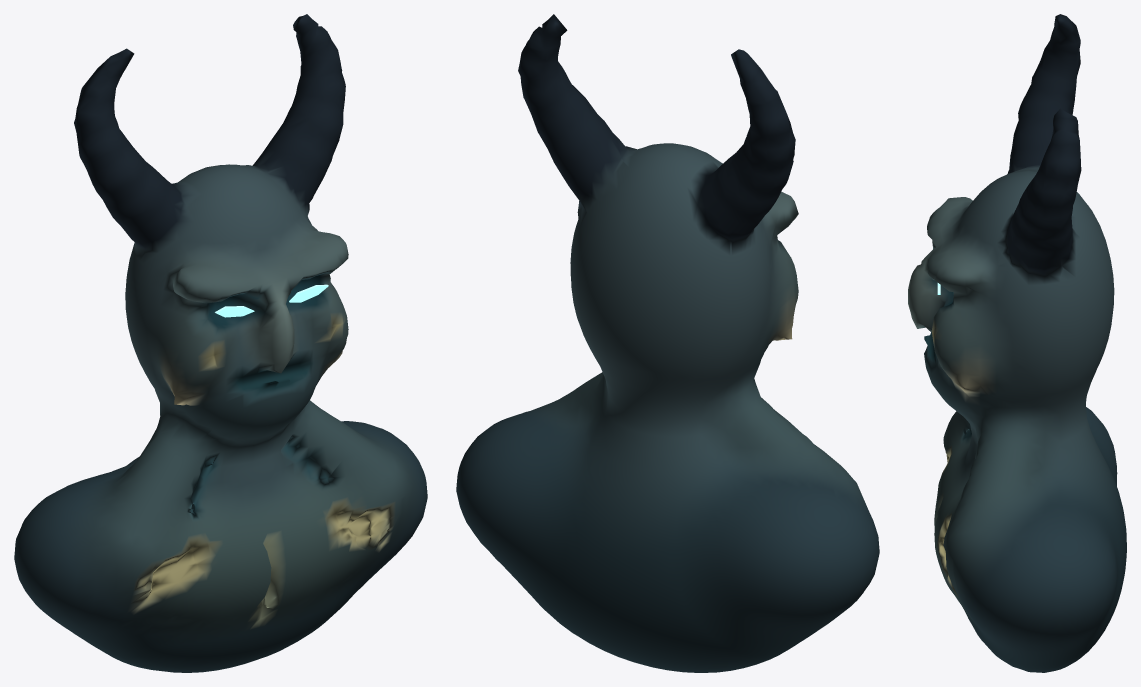
Rendered from warden-low.glb.
3 renders of one model, left to right at view 1: azimuth 30°, elevation 25°; view 2: azimuth 150°, elevation 25°; view 3: azimuth 270°, elevation 25°, orthographic. The views are drawn at different scales.
Visible parts, largest first — view 1: warden; view 2: warden; view 3: warden.
Boxes of the visible parts, <box> form: warden: <box>14,14,427,672</box>; warden: <box>456,14,879,672</box>; warden: <box>908,14,1126,672</box>.
Bounding box in the file's own units: 2.37 × 3.63 × 1.21.
